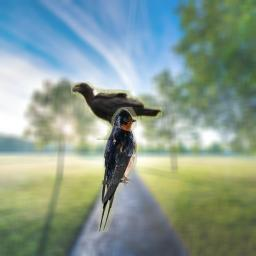Crow: (71, 82, 162, 140)
Swallow: (97, 107, 137, 232)
